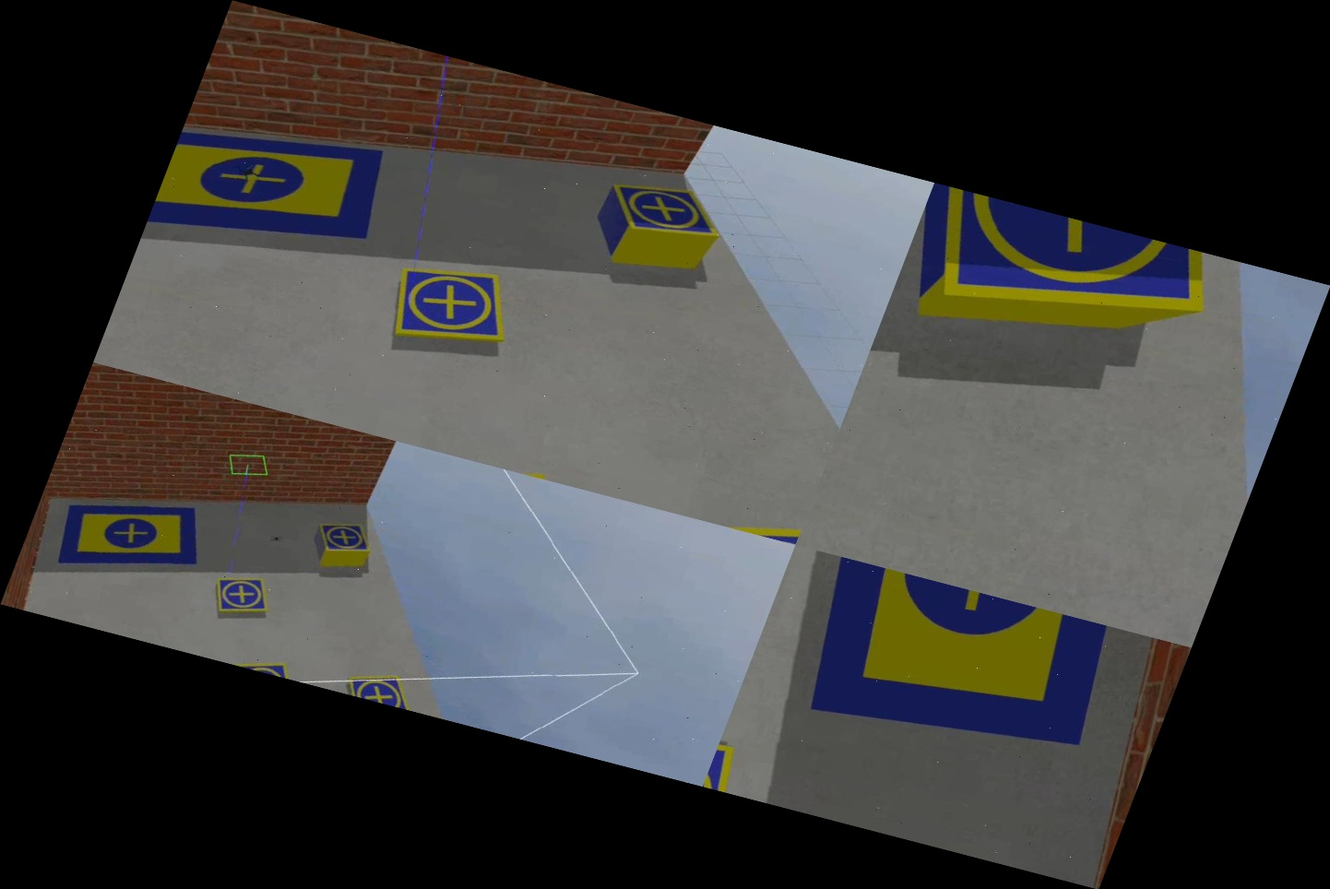large_base: (773, 553, 1125, 776), (143, 101, 404, 286), (47, 476, 220, 597)
small_base: (895, 183, 1231, 362), (375, 250, 528, 364), (596, 166, 737, 255), (202, 566, 281, 629), (707, 497, 804, 545), (342, 664, 429, 712), (309, 515, 384, 564), (235, 651, 309, 682)
